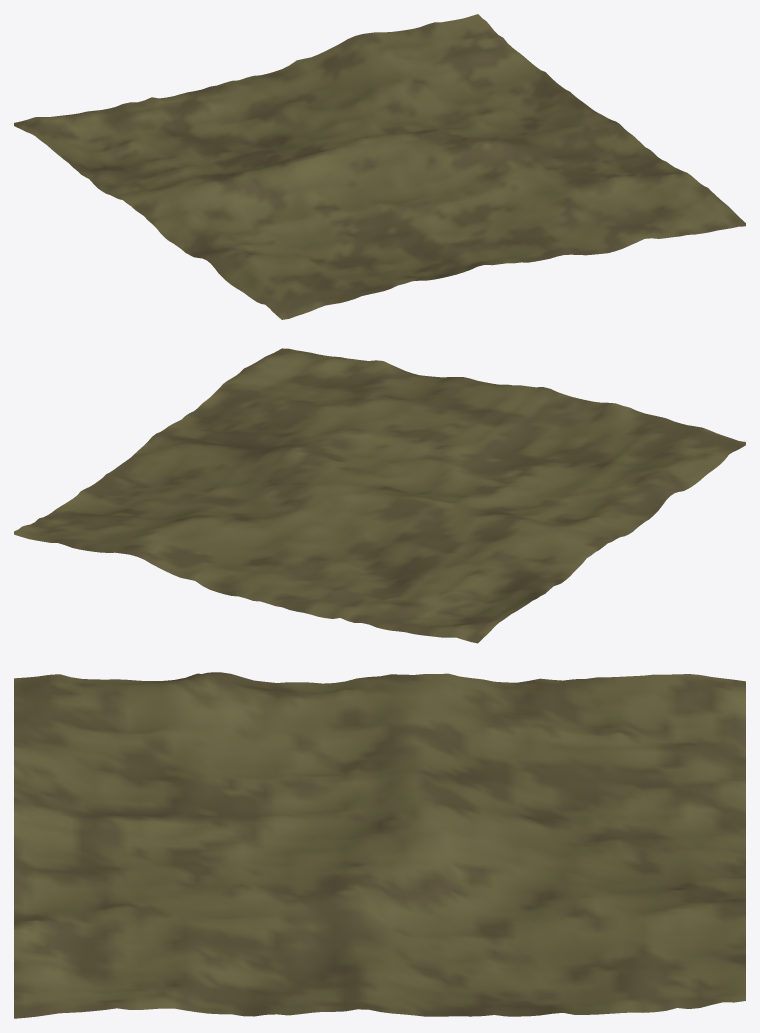
Rendered from land_f_09_01.glb.
The picture shows the model from 3 angles, top to bottom: view 1: azimuth 30°, elevation 25°; view 2: azimuth 150°, elevation 25°; view 3: azimuth 270°, elevation 25°; orthographic projection. The views are drawn at different scales.
Visible parts, largest first — view 1: land_f_09_01; view 2: land_f_09_01; view 3: land_f_09_01.
Part boxes in pixels (box(x1,y1,x2,y2)): land_f_09_01: box(14, 14, 745, 319); land_f_09_01: box(14, 348, 745, 643); land_f_09_01: box(14, 672, 745, 1018).
Bounding box in the file's own units: 3840 × 260 × 3840.
